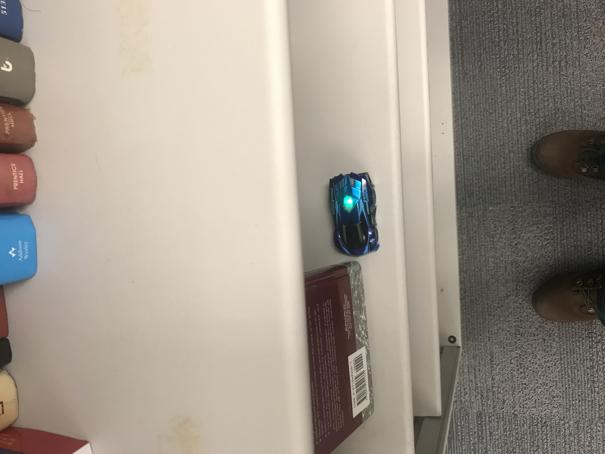Shock: (325, 171, 381, 257)
